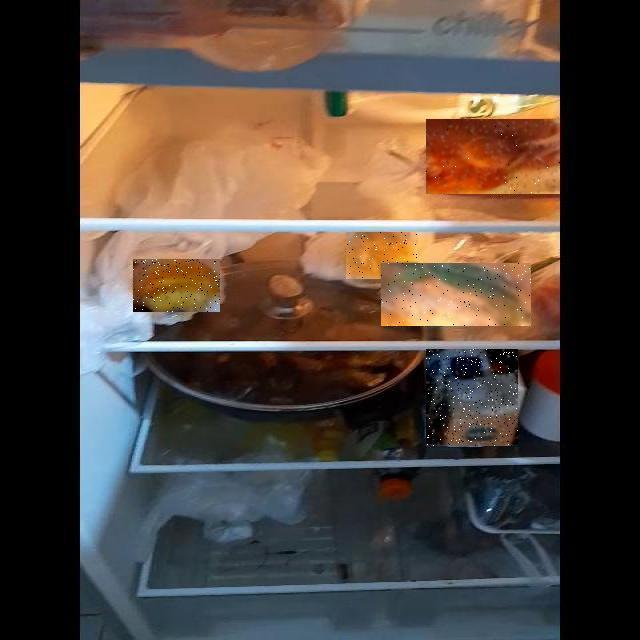Carrot: (426, 119, 560, 194)
Chillies: (381, 263, 531, 326)
Lemon: (133, 259, 220, 312), (347, 232, 419, 279)
Milk: (426, 349, 518, 446)
